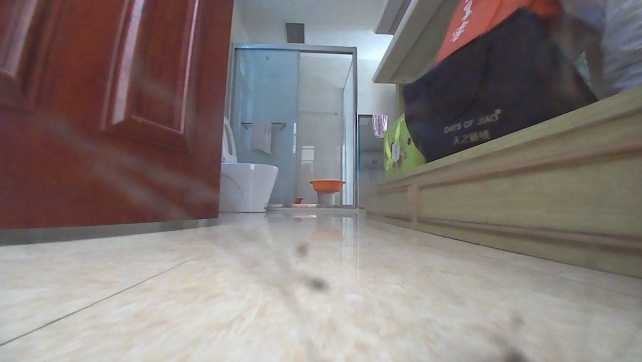toilet: (219, 115, 280, 214)
